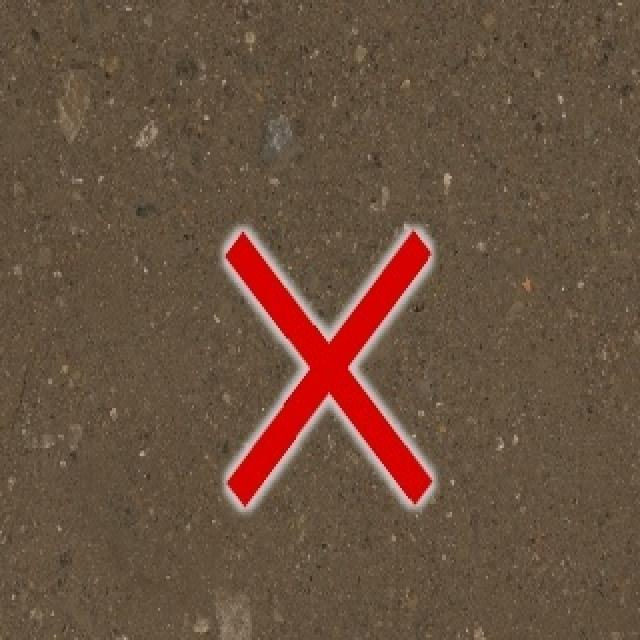x_marker: (225, 231, 431, 505)
